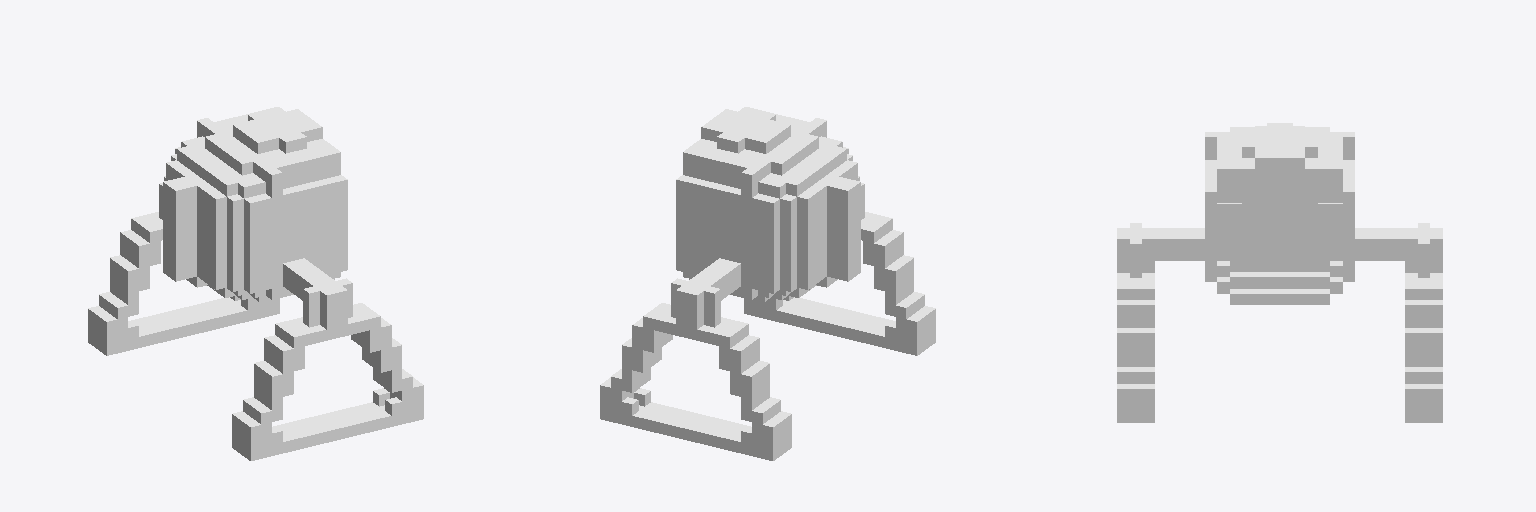
Rendered from SpotLight.obj.
3 views of the same model, side by side, from view 1: azimuth 30°, elevation 25°; view 2: azimuth 150°, elevation 25°; view 3: azimuth 270°, elevation 25° (orthographic).
Visible parts, largest first — view 1: object 1; view 2: object 1; view 3: object 1.
Part boxes in pixels (x1,y1,x2,y2): object 1: (88,107,423,460); object 1: (600,107,935,460); object 1: (1117,123,1442,422).
Size of the model in its own units: 1.6 by 2.2 by 2.6.